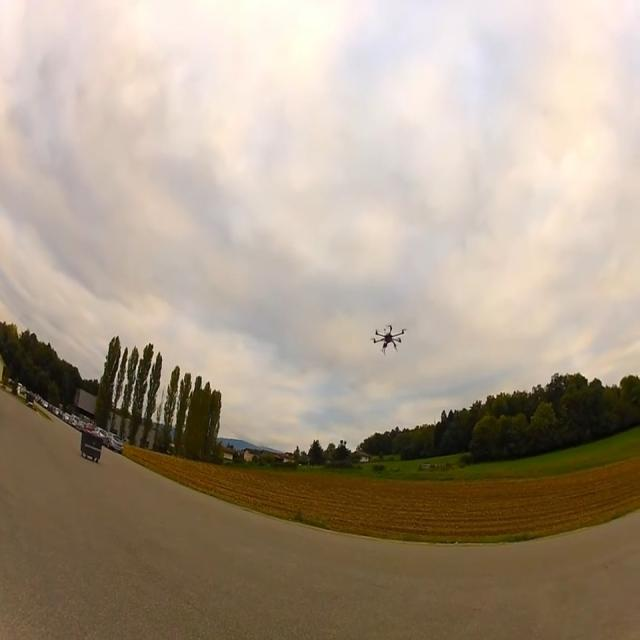drone: (371, 324, 406, 354)
